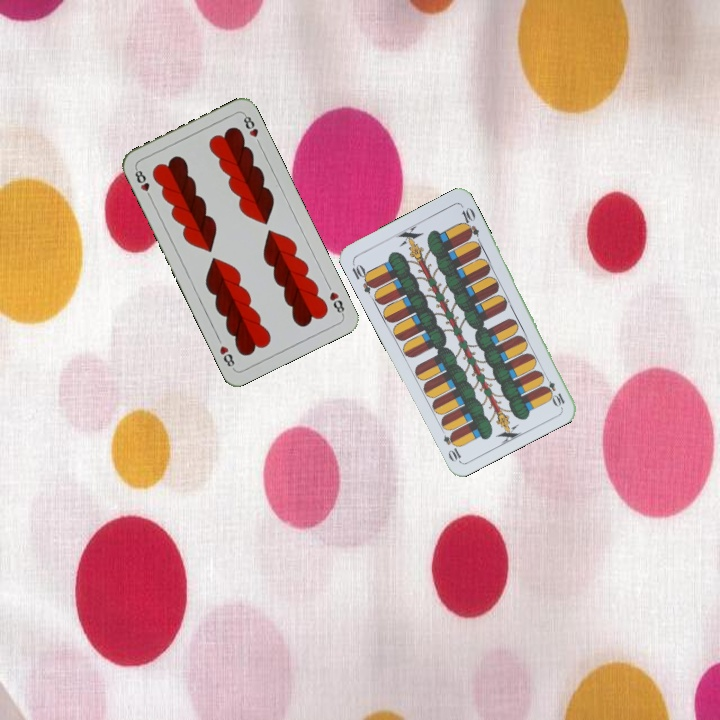E10: (348, 258, 378, 296), (539, 371, 567, 409)
H8: (131, 164, 155, 202), (325, 288, 347, 318)
